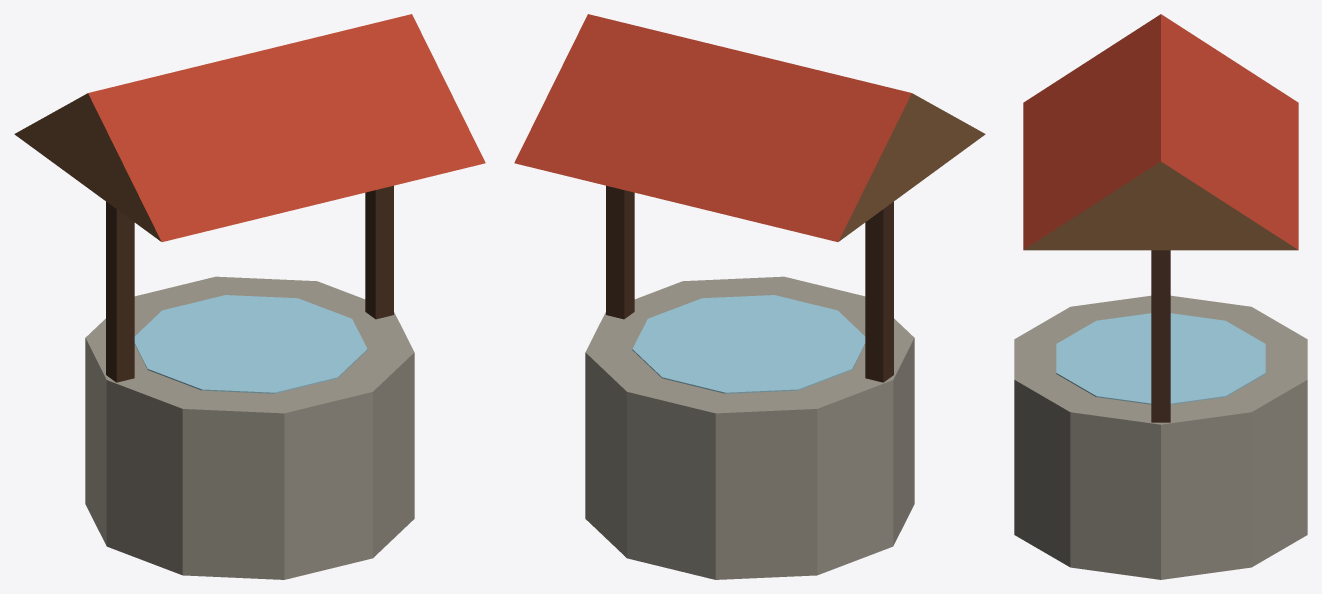
The model's file is well.glb.
3 renders of one model, left to right at view 1: azimuth 30°, elevation 25°; view 2: azimuth 150°, elevation 25°; view 3: azimuth 270°, elevation 25°, orthographic. The views are drawn at different scales.
Visible parts, largest first — view 1: well-col; view 2: well-col; view 3: well-col.
Boxes of the visible parts, x1=… form: well-col: x1=14, y1=14, x2=485, y2=579; well-col: x1=514, y1=14, x2=985, y2=579; well-col: x1=1014, y1=14, x2=1307, y2=579.
Bounding box in the file's own units: 2.85 × 3.85 × 2.4.
